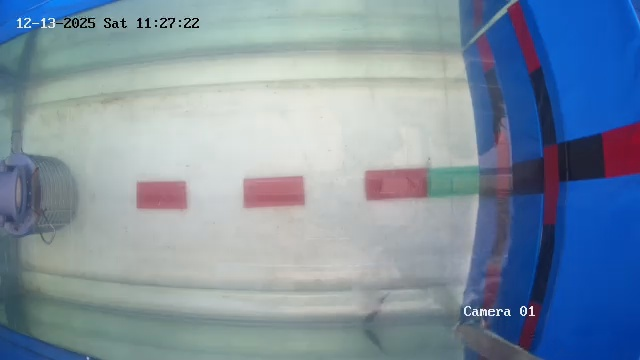fish: (315, 306, 349, 328)
